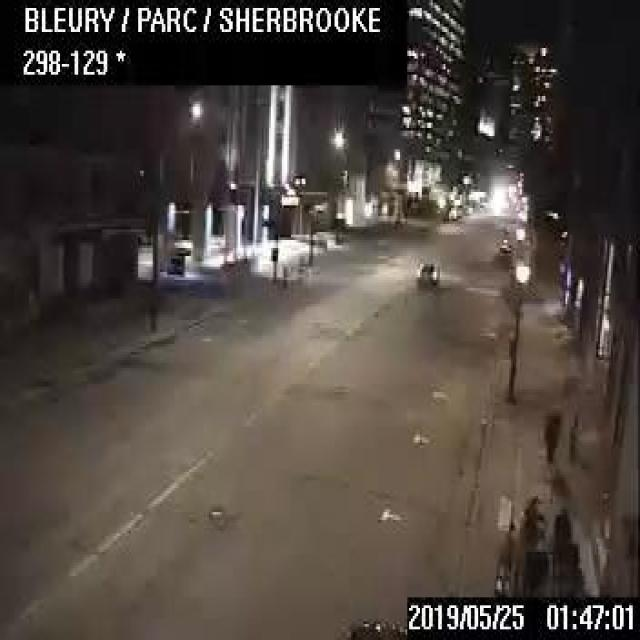pedestrian: (542, 408, 562, 462), (569, 410, 581, 465)
vehicle: (414, 258, 439, 282), (498, 238, 511, 255)
